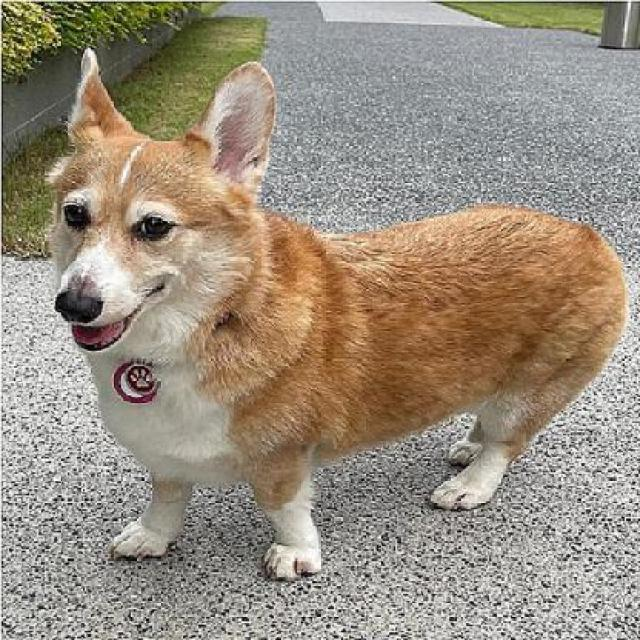Dog: (40, 43, 626, 582)
